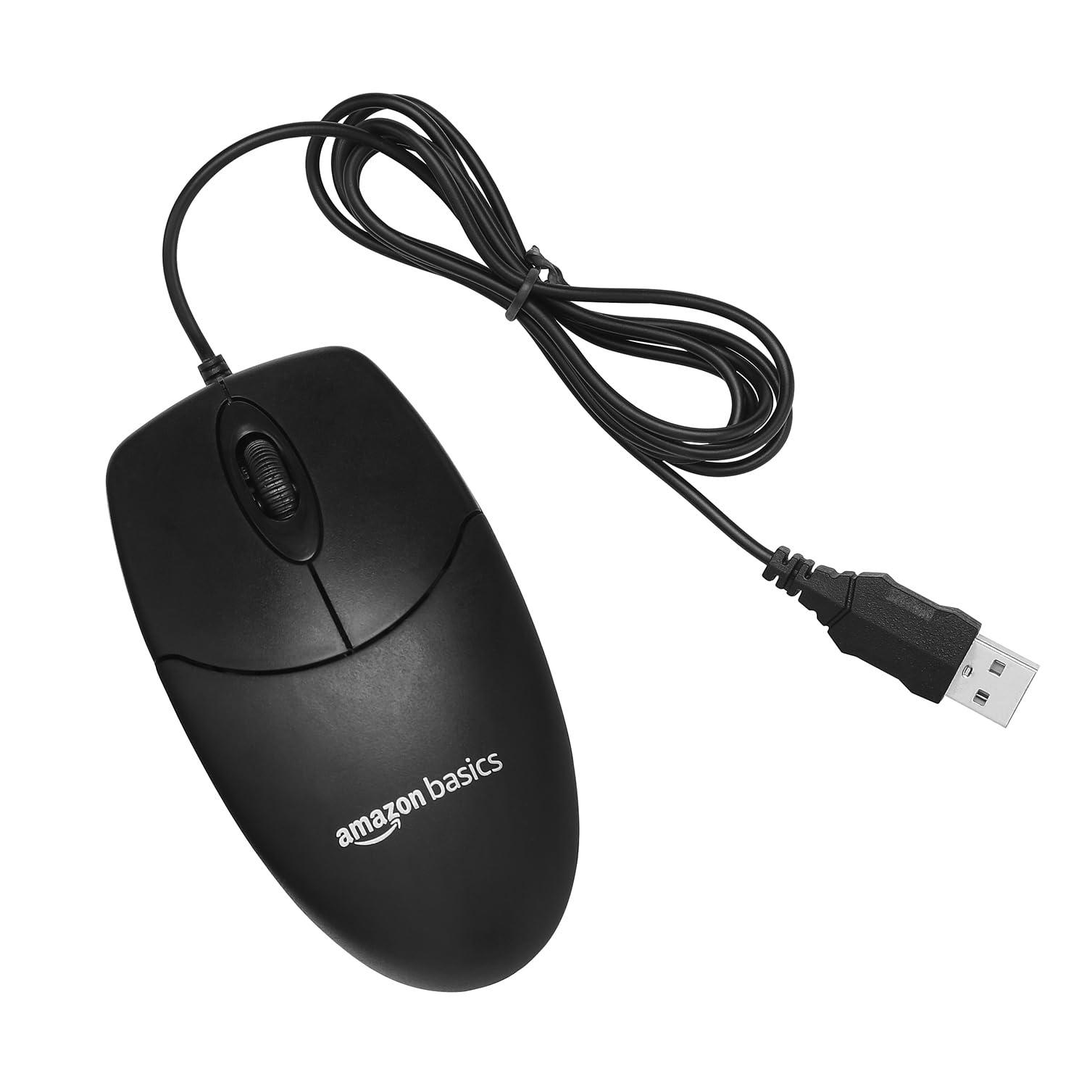mouse: (38, 332, 670, 1004)
